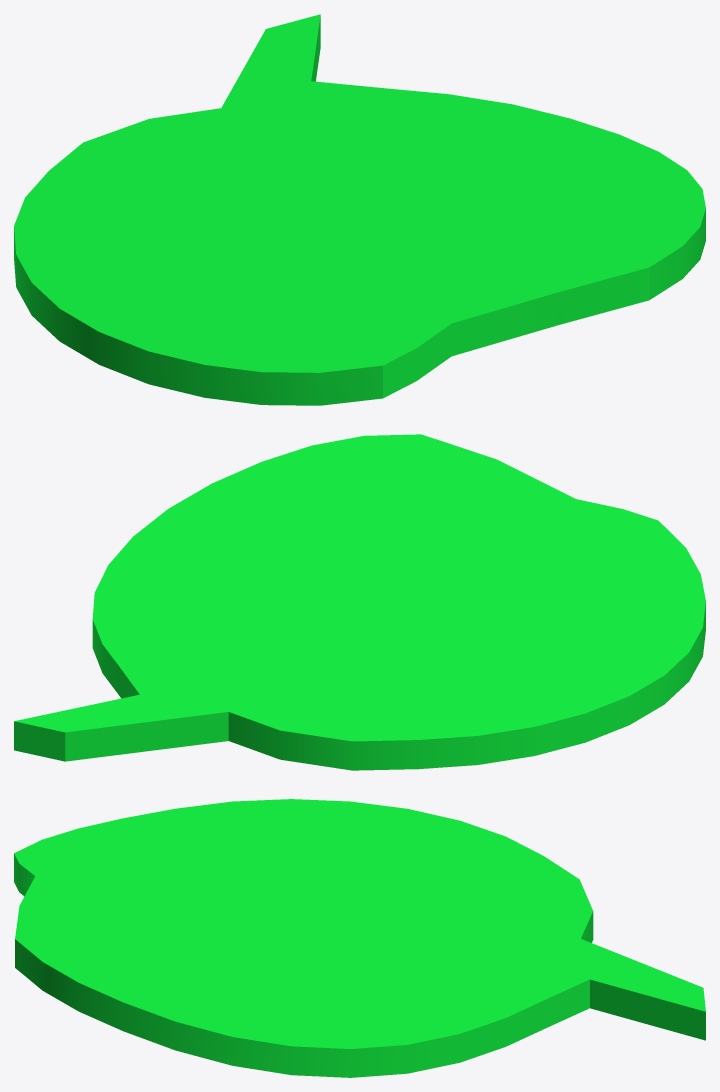
Rendered from post-apple-1.fbx.
The picture shows the model from 3 angles, top to bottom: view 1: azimuth 30°, elevation 25°; view 2: azimuth 150°, elevation 25°; view 3: azimuth 270°, elevation 25°; orthographic projection. The views are drawn at different scales.
Parts seen in each view (by area): view 1: Circle; view 2: Circle; view 3: Circle.
Part boxes in pixels (x1,y1,x2,y2): Circle: (14,14,705,405); Circle: (14,434,705,770); Circle: (14,799,705,1077).
Size of the model in its own units: 214 by 28.69 by 244.
